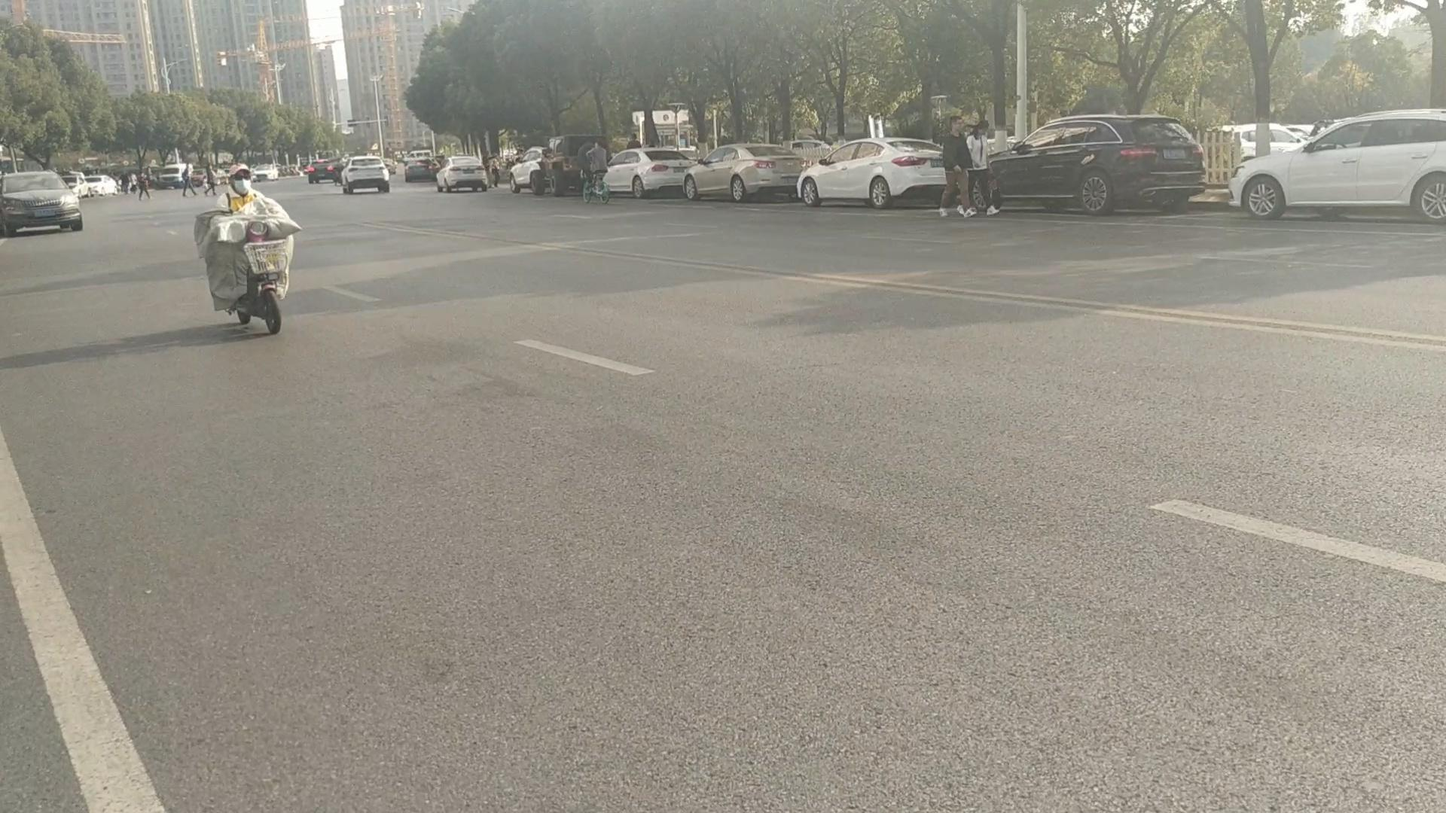car: (1226, 108, 1446, 222), (985, 115, 1205, 216), (796, 138, 947, 208), (682, 143, 807, 202), (0, 170, 83, 236), (599, 147, 696, 199), (1230, 123, 1309, 160), (435, 158, 489, 194), (341, 158, 391, 195), (509, 151, 544, 194), (789, 138, 836, 162), (79, 174, 116, 196), (305, 161, 339, 184), (404, 157, 436, 181), (66, 173, 94, 197), (252, 165, 277, 182)
